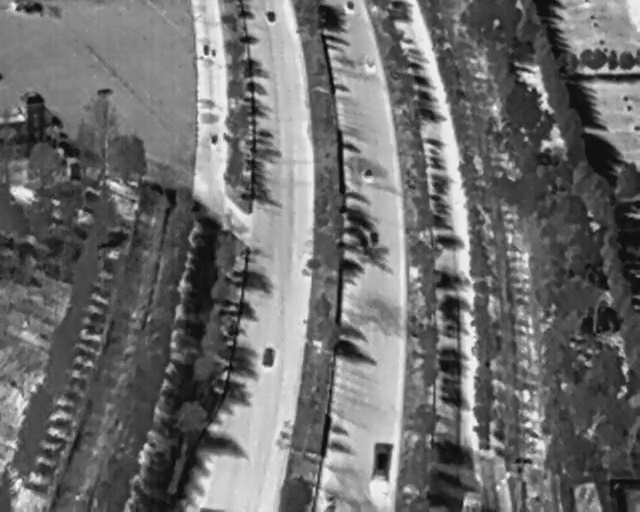Car: (371, 442, 393, 483), (261, 345, 276, 368), (264, 7, 276, 20), (210, 132, 218, 145), (346, 0, 355, 10), (203, 44, 209, 57)
